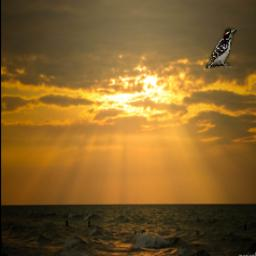Woodpecker: (207, 27, 238, 68)
